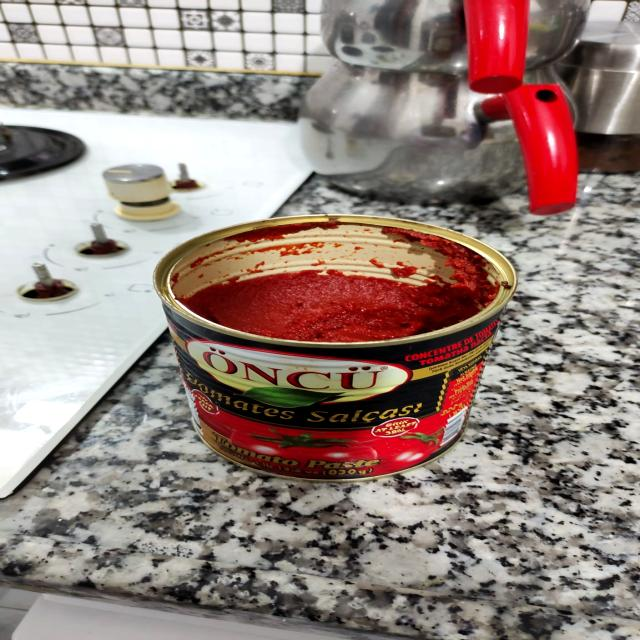tomato paste: (161, 206, 524, 490)
